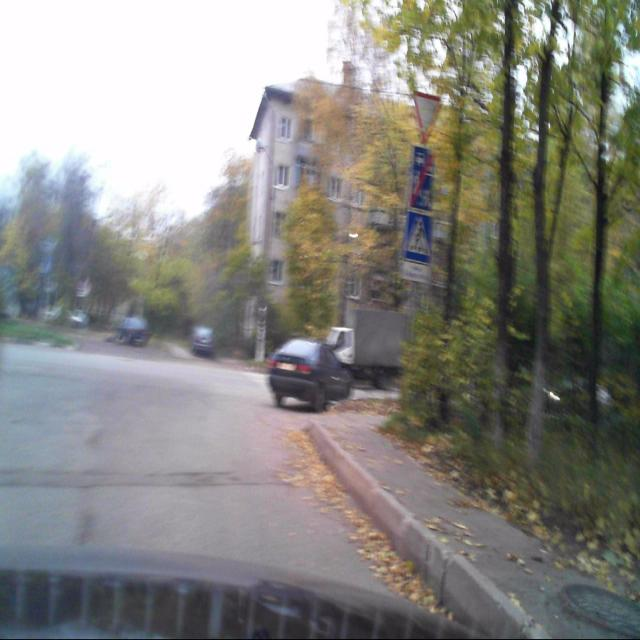road sign: (409, 147, 434, 212), (412, 91, 441, 147), (406, 215, 433, 263)
